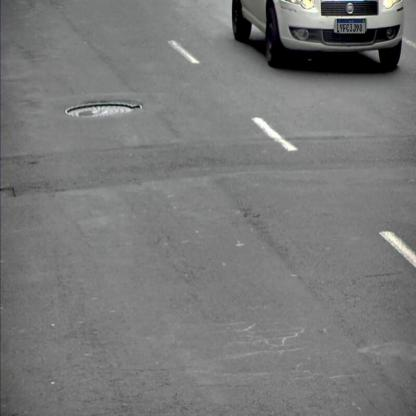PlacaM: (337, 19, 366, 34)
